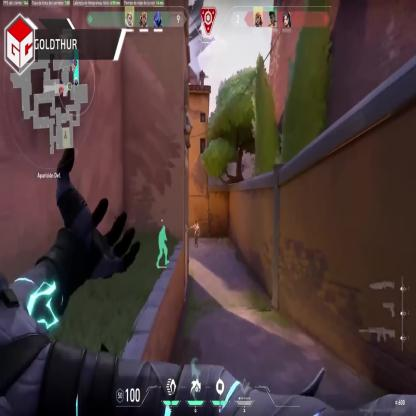enemy: (191, 219, 200, 247)
enemy_head: (195, 219, 197, 224)
